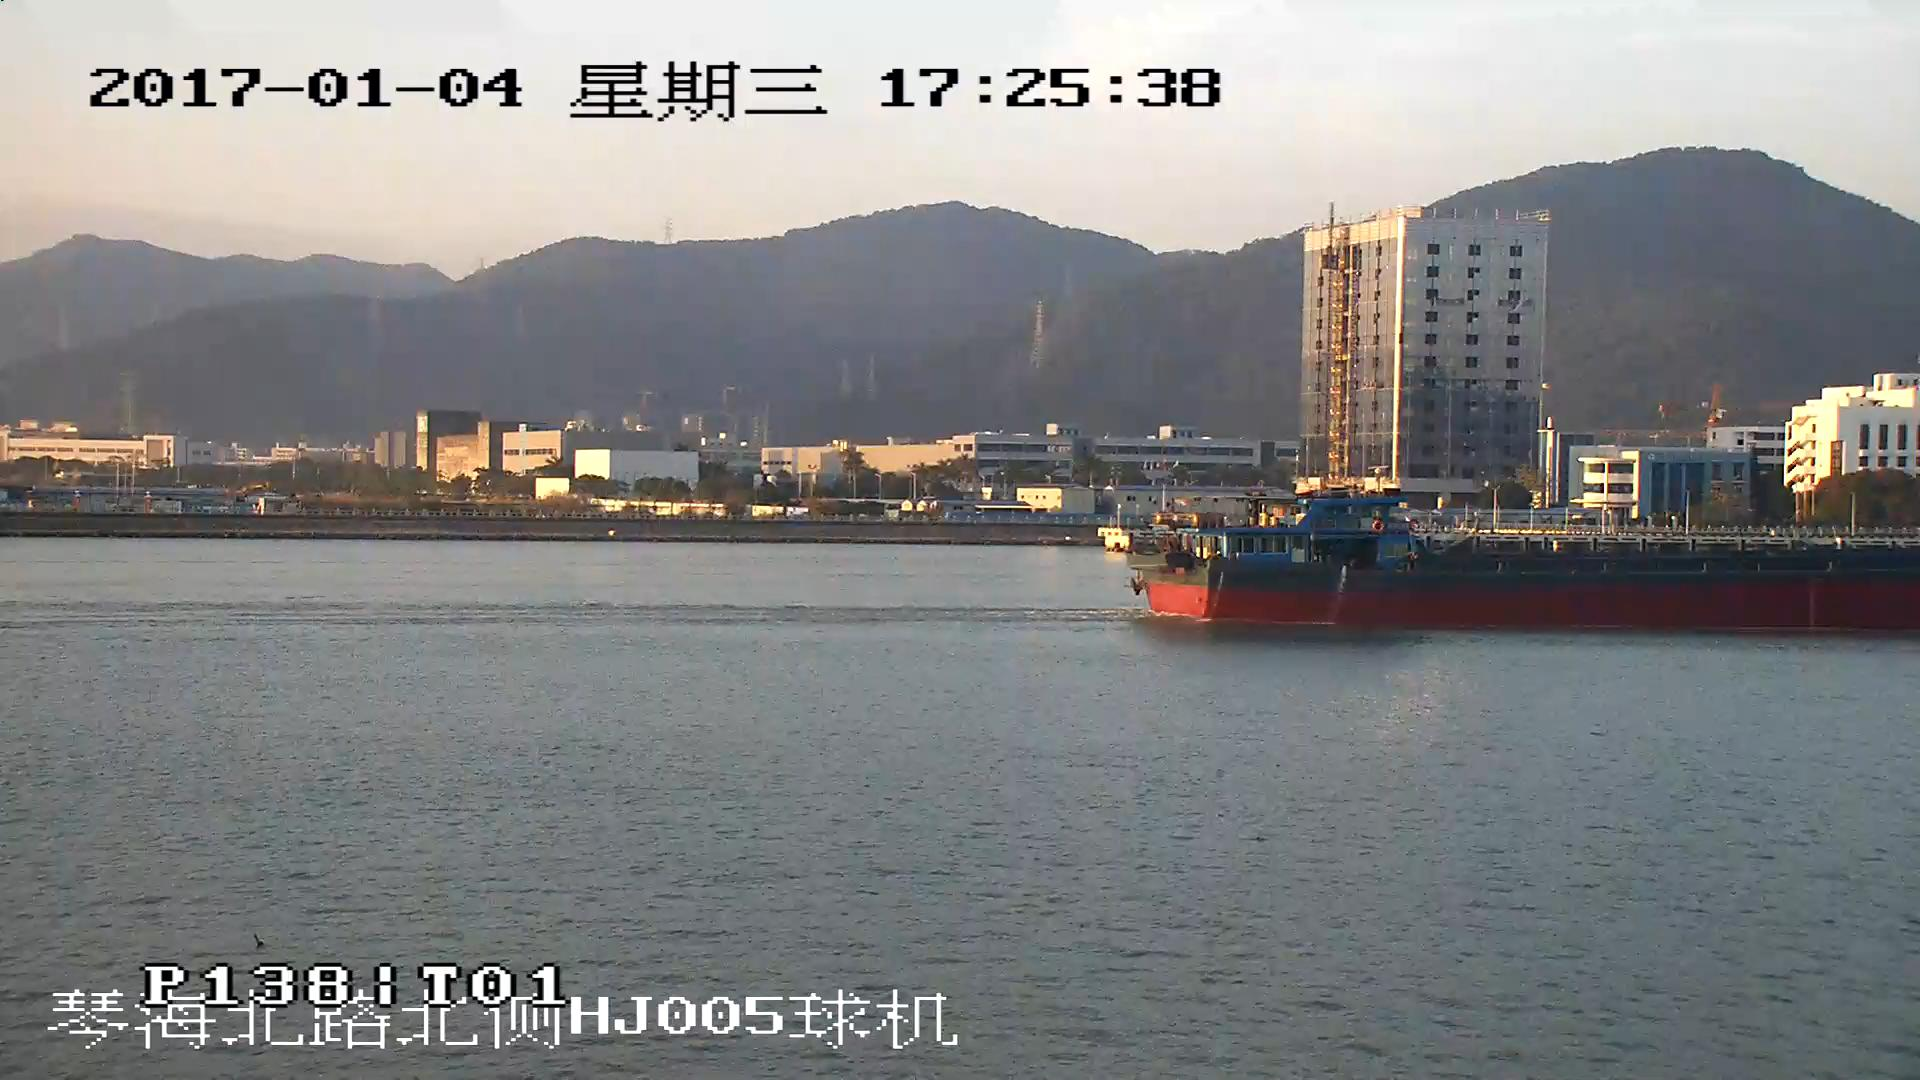general cargo ship: (1119, 497, 1920, 635)
